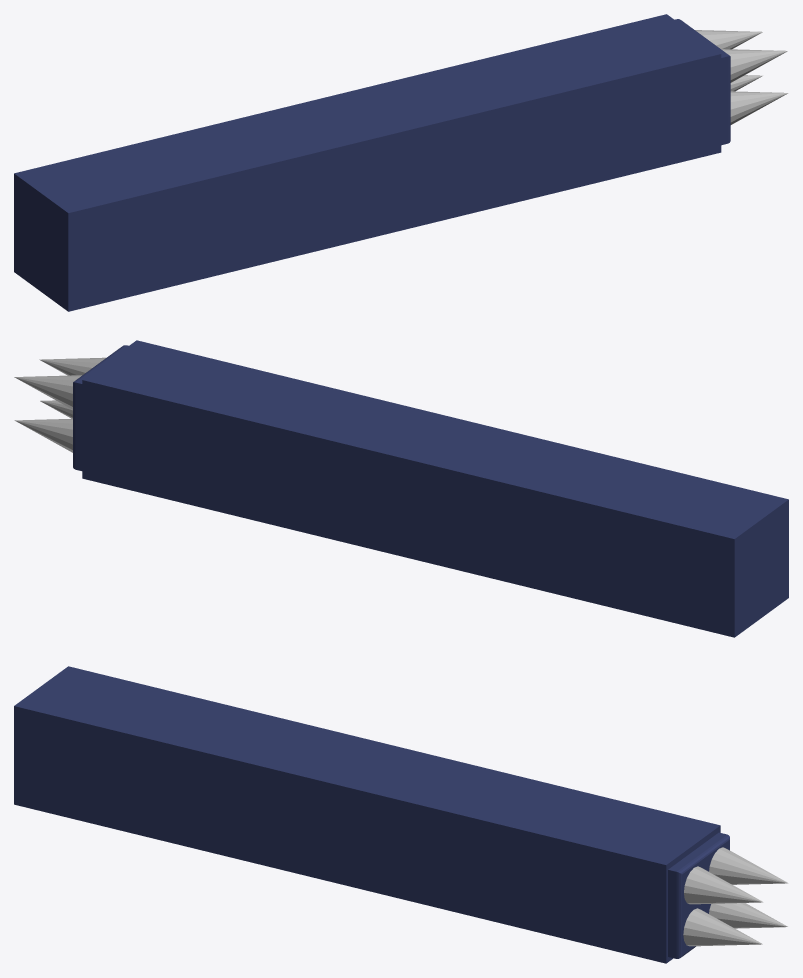
File: wallspike.fbx
The picture shows the model from 3 angles, top to bottom: view 1: azimuth 30°, elevation 25°; view 2: azimuth 150°, elevation 25°; view 3: azimuth 330°, elevation 25°; orthographic projection.
Visible parts, largest first — view 1: Cube.016; view 2: Cube.016; view 3: Cube.016.
Part boxes in pixels (x1,y1,x2,y2): Cube.016: [14, 14, 788, 311]; Cube.016: [14, 340, 788, 637]; Cube.016: [14, 666, 788, 963].
Size of the model in its own units: 15.6 by 2 by 2.
